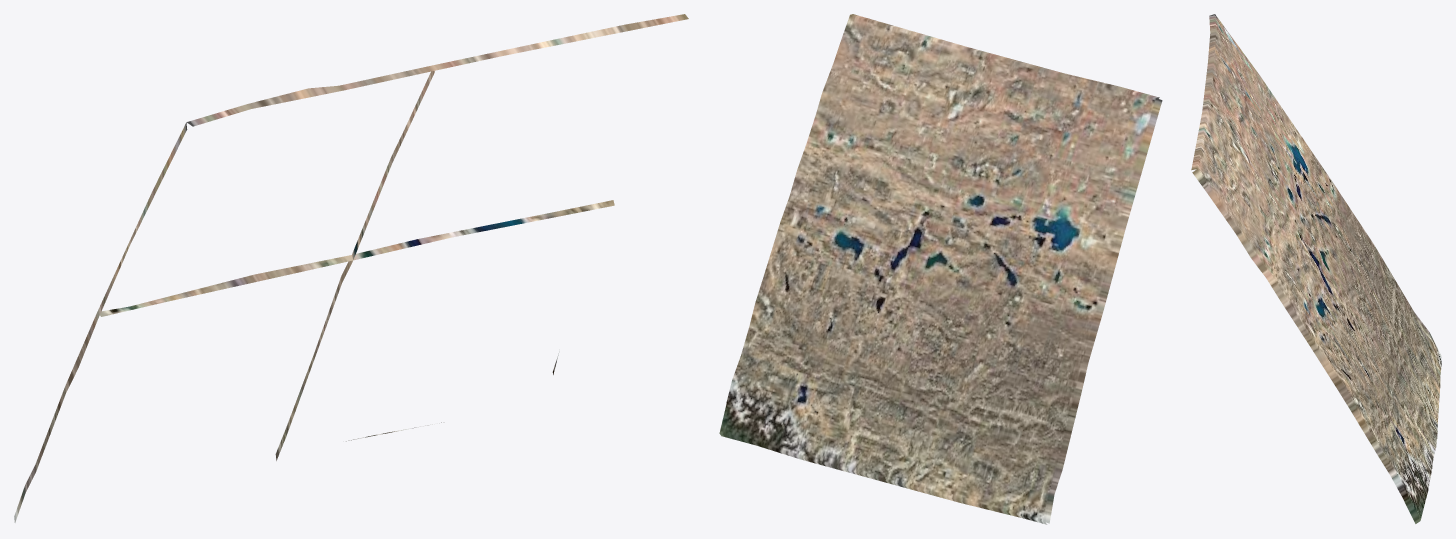
3 renders of one model, left to right at view 1: azimuth 30°, elevation 25°; view 2: azimuth 150°, elevation 25°; view 3: azimuth 270°, elevation 25°, orthographic. The views are drawn at different scales.
Bounding box in the file's own units: 559277 × 548018 × 356197.
1 material, 1 textured.
